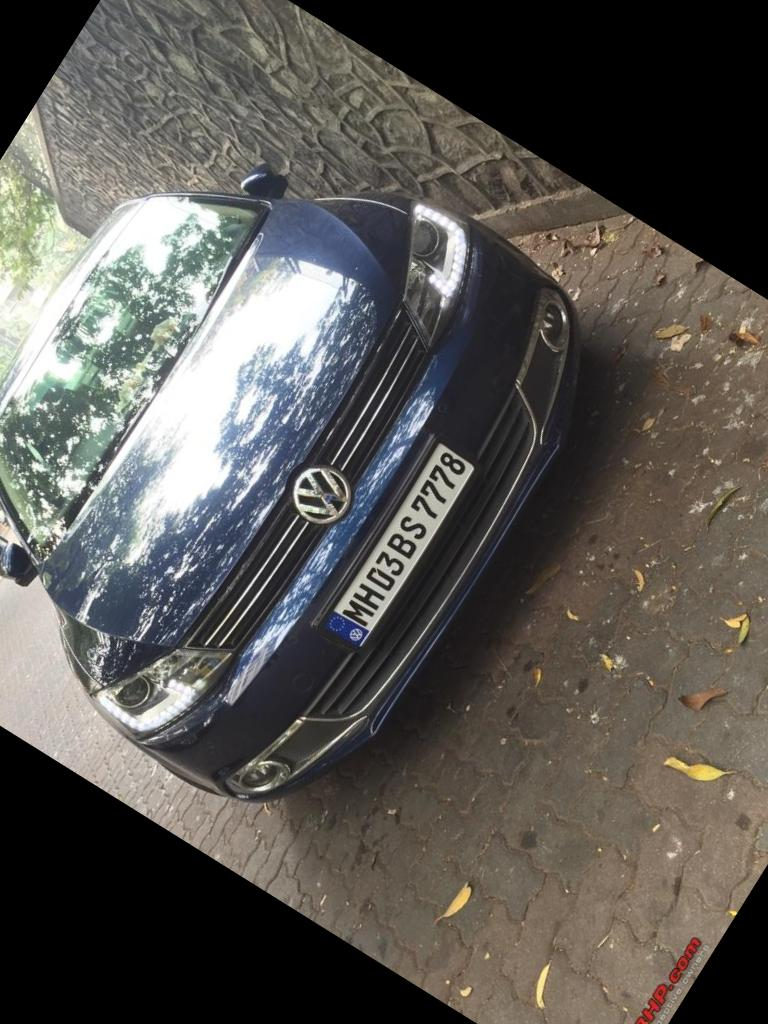plate: (307, 421, 499, 663)
